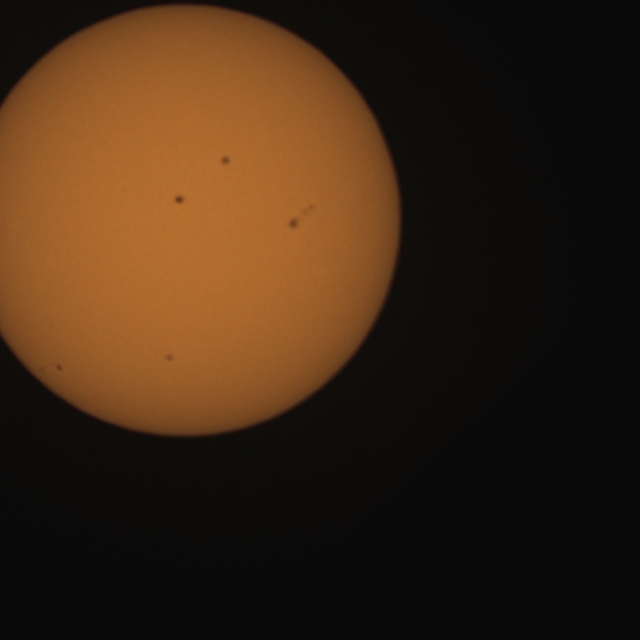sunspot: (286, 202, 316, 232), (286, 216, 301, 232), (172, 193, 187, 206), (219, 154, 232, 168), (163, 352, 175, 363), (54, 362, 64, 373)
